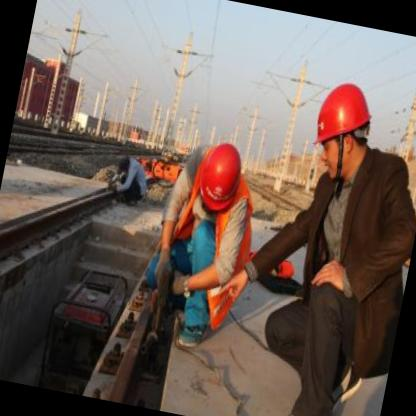helmet: (300, 74, 381, 188), (185, 135, 251, 232)
